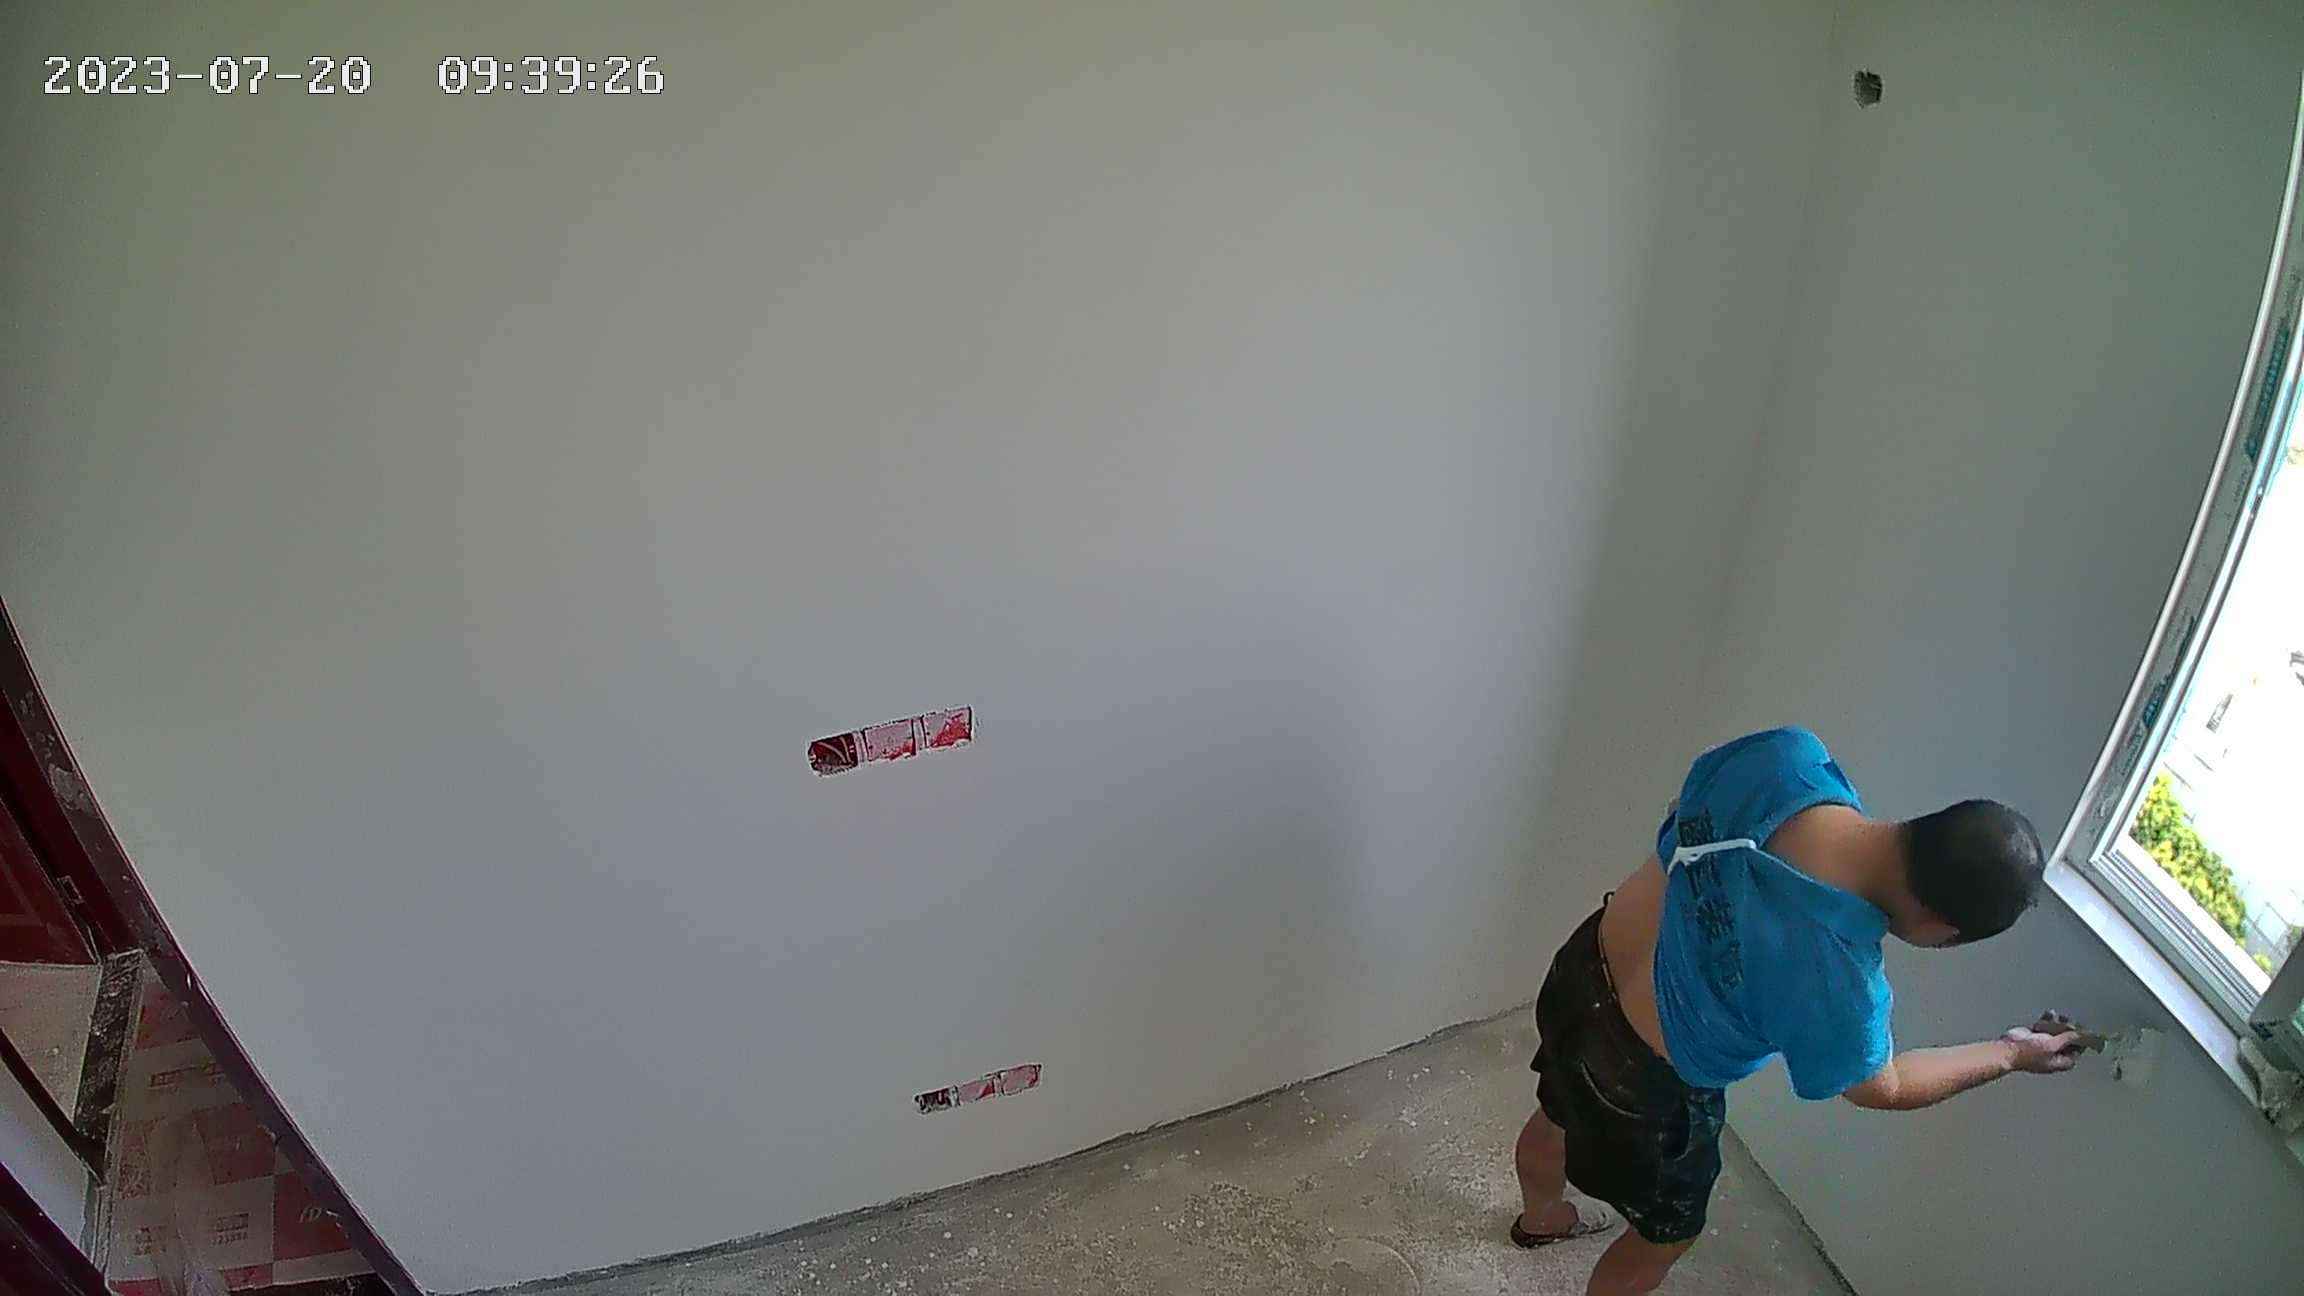people: (1486, 720, 2110, 1290)
window: (2123, 257, 2304, 1032)
